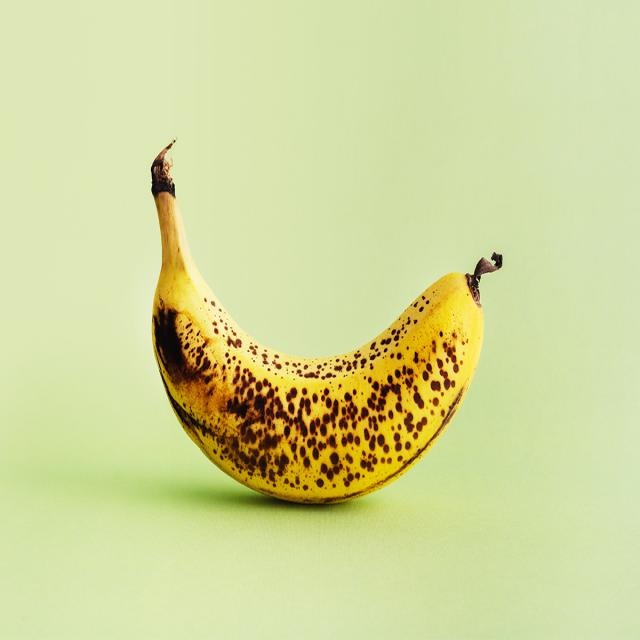Banana: (141, 161, 505, 508)
